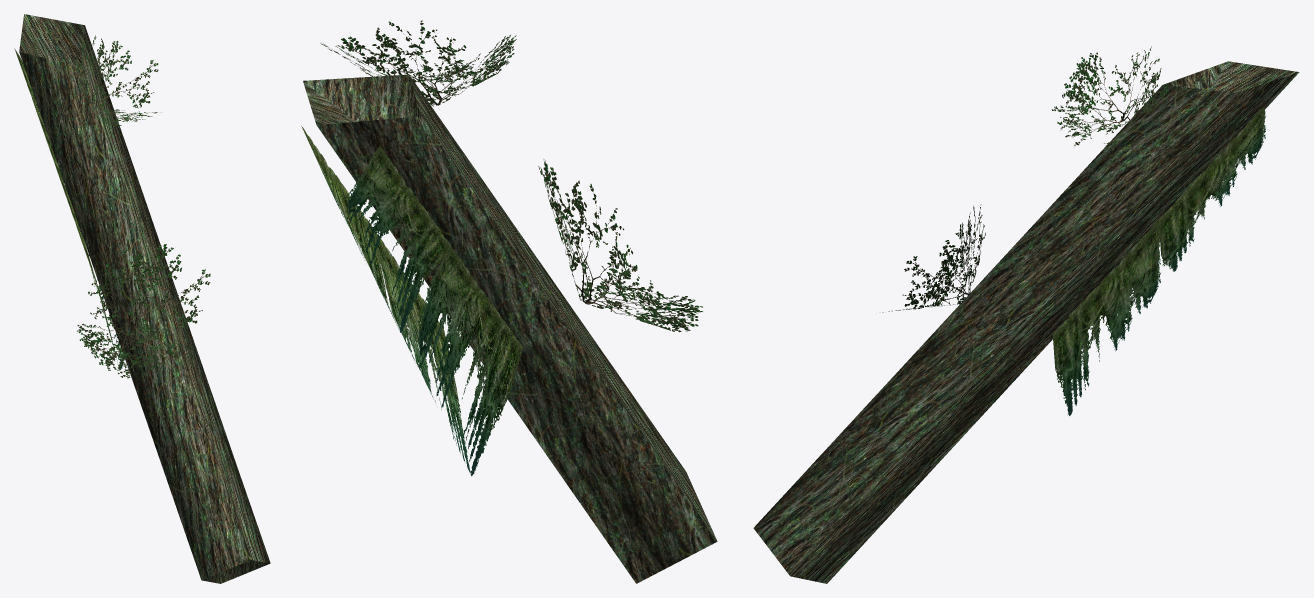
File: decd_dath_overgrownbranch_a1_l1.fbx
The picture shows the model from 3 angles, left to right: view 1: azimuth 30°, elevation 25°; view 2: azimuth 150°, elevation 25°; view 3: azimuth 270°, elevation 25°; orthographic projection. The views are drawn at different scales.
Parts seen in each view (by area): view 1: mesh_node; view 2: mesh_node; view 3: mesh_node.
Part boxes in pixels (x1=…): mesh_node: x1=14, y1=14, x2=270, y2=583; mesh_node: x1=301, y1=20, x2=717, y2=583; mesh_node: x1=753, y1=46, x2=1299, y2=583.
Bounding box in the file's own units: 5.11 × 12.52 × 11.37.
